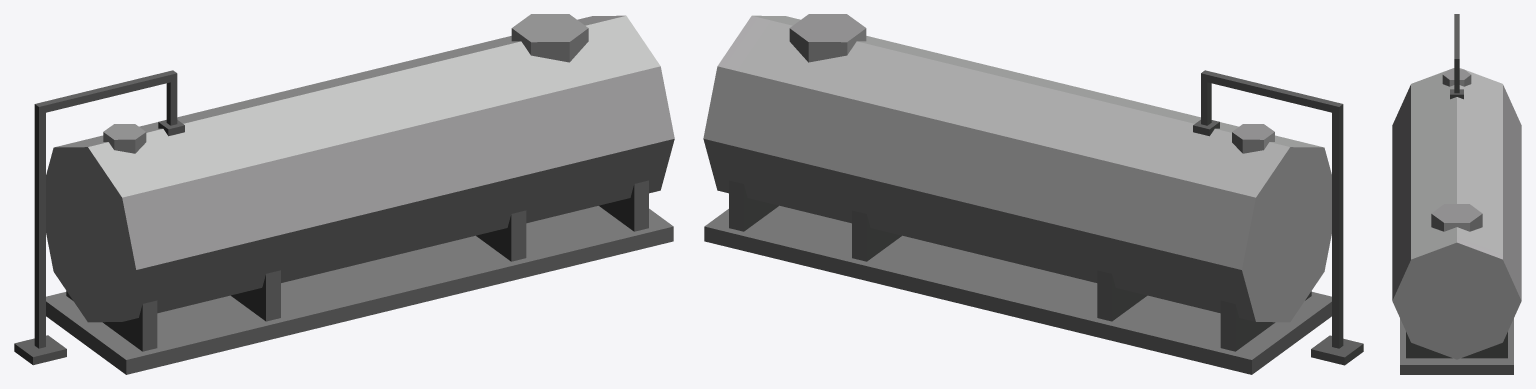
Rendered from GTank.fbx.
The picture shows the model from 3 angles, left to right: view 1: azimuth 30°, elevation 25°; view 2: azimuth 150°, elevation 25°; view 3: azimuth 270°, elevation 25°; orthographic projection. The views are drawn at different scales.
Parts seen in each view (by area): view 1: GTank; view 2: GTank; view 3: GTank.
Boxes of the visible parts, left/top/right/bottom form: GTank: left=14, top=14, right=674, bottom=374; GTank: left=703, top=14, right=1363, bottom=374; GTank: left=1392, top=14, right=1521, bottom=374.
Size of the model in its own units: 5.48 by 2.15 by 1.51.
